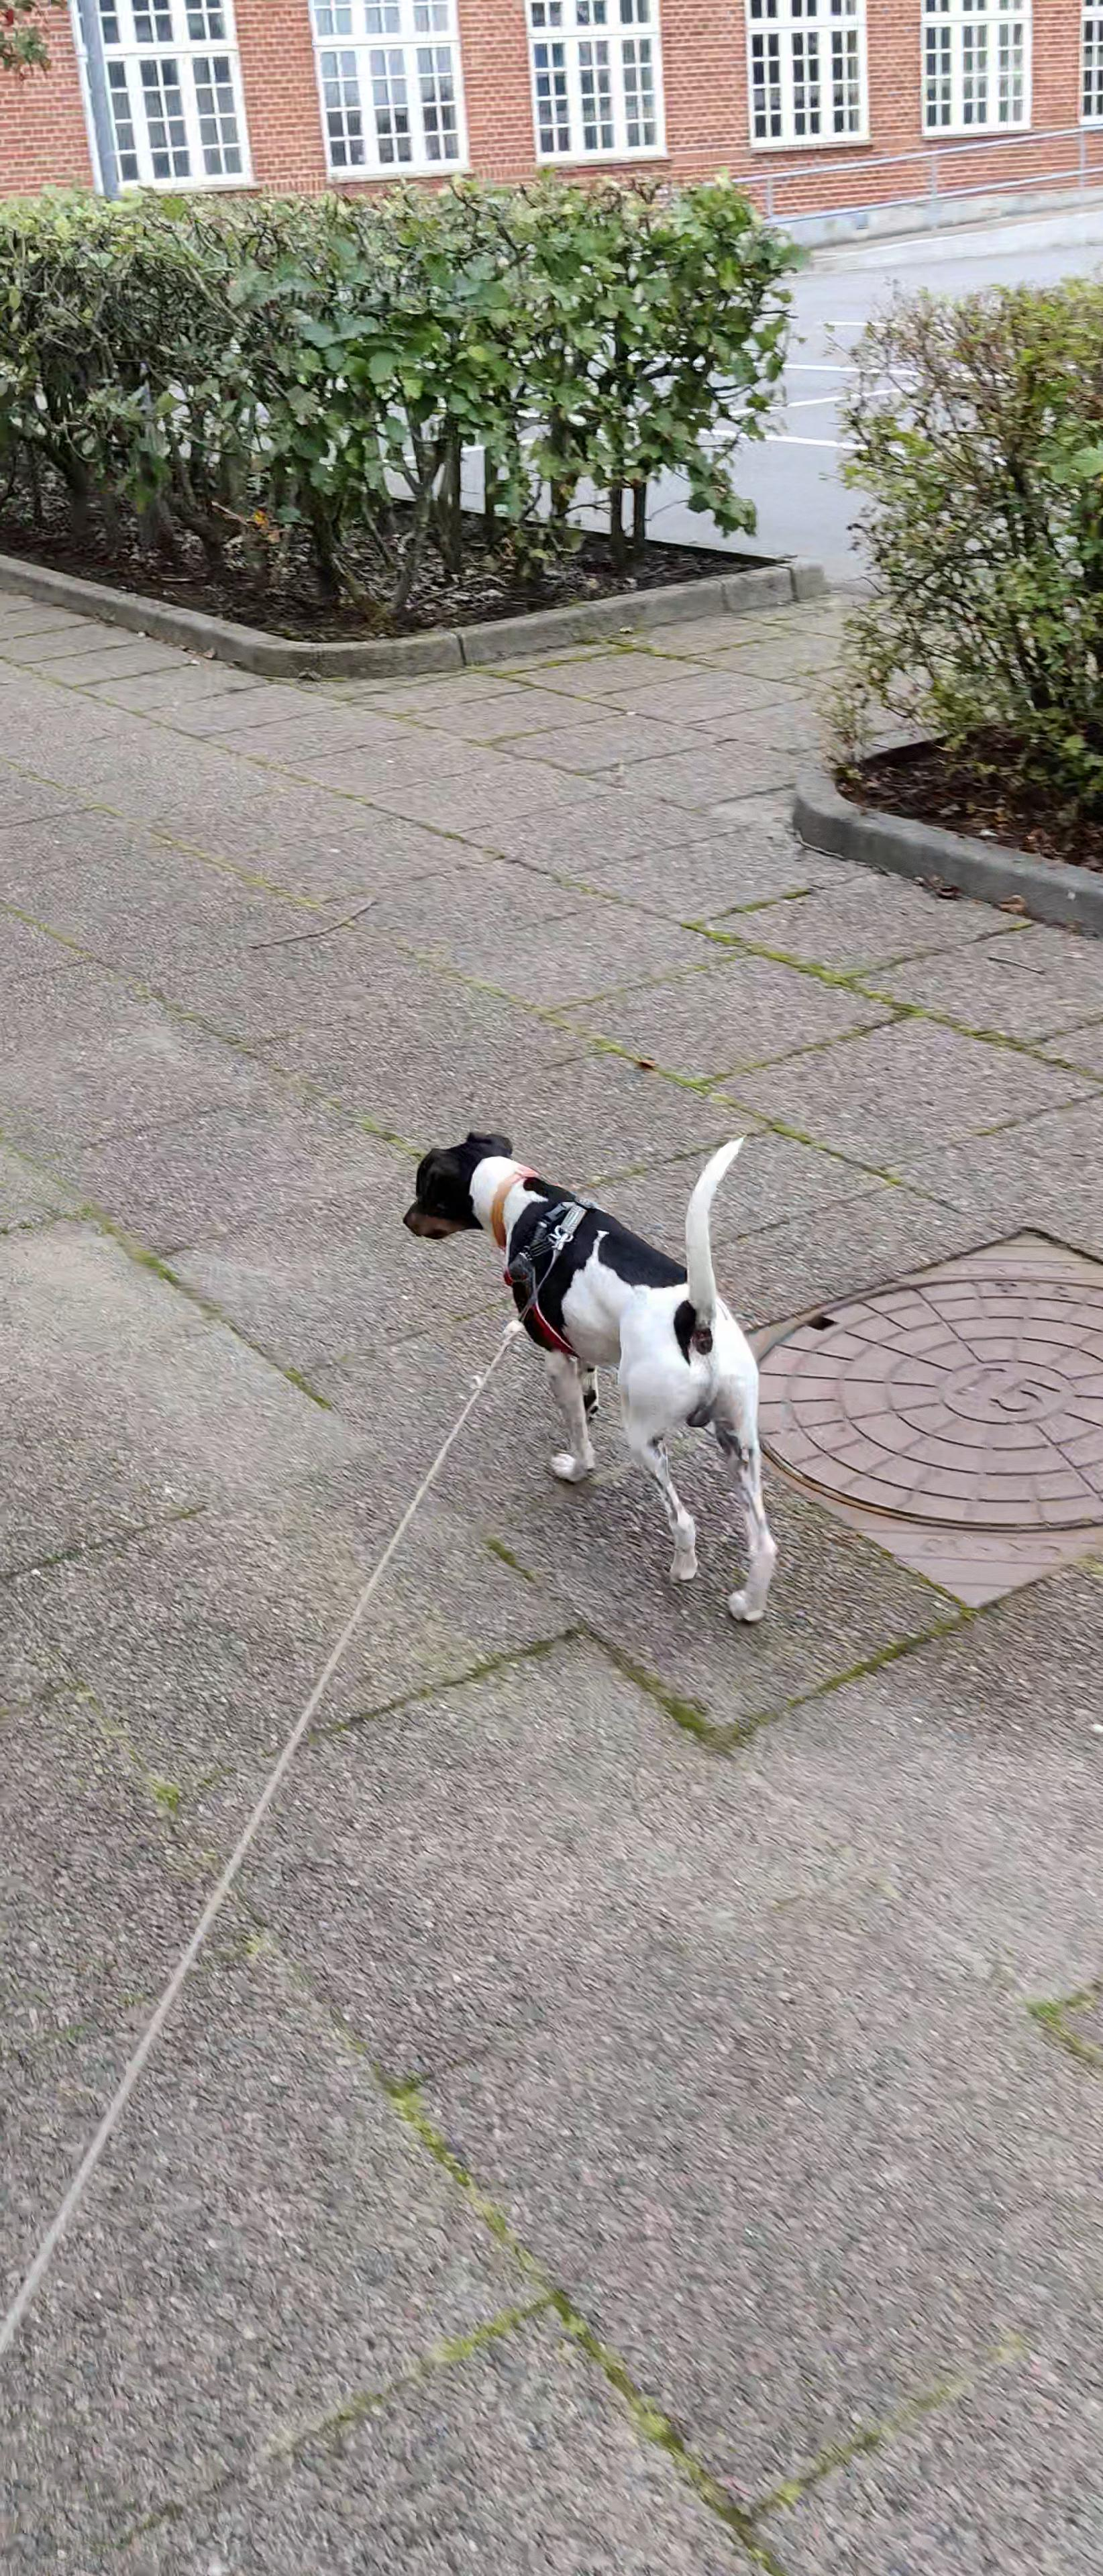Dog: (398, 1122, 791, 1630)
